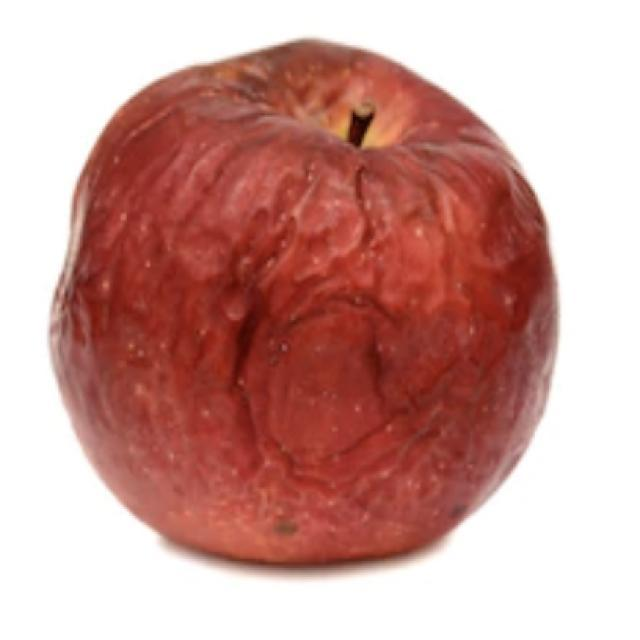Rotten: (38, 37, 552, 588)
